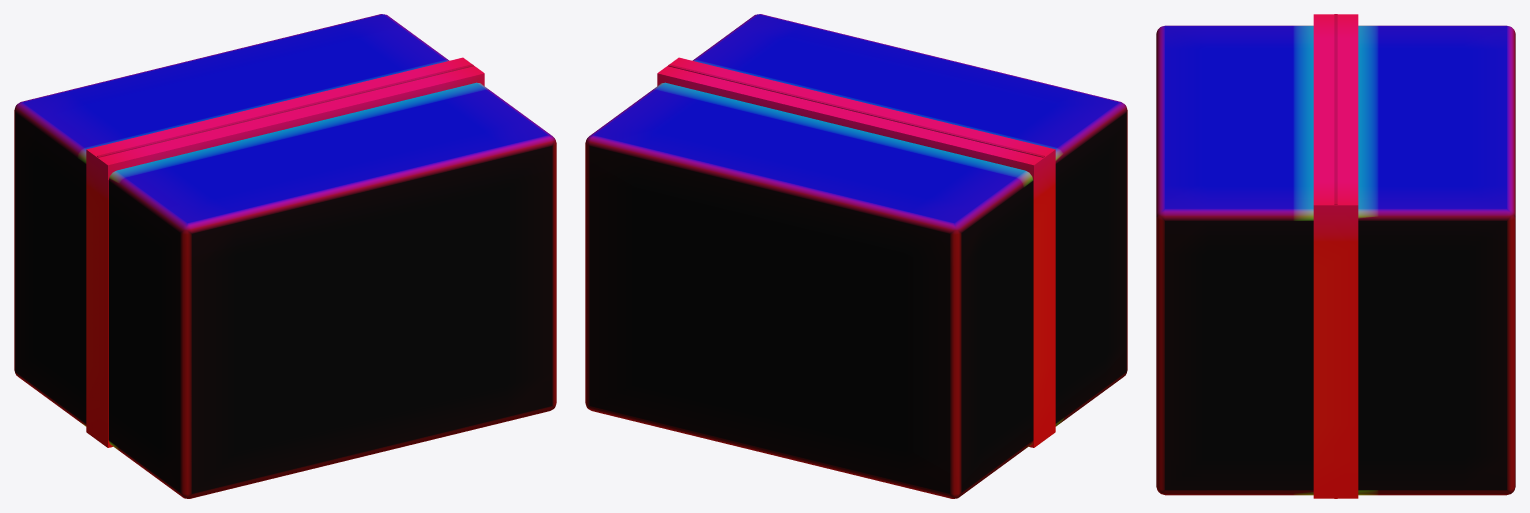
Rendered from prop_cardboard_box.fbx.
3 renders of one model, left to right at view 1: azimuth 30°, elevation 25°; view 2: azimuth 150°, elevation 25°; view 3: azimuth 270°, elevation 25°, orthographic. The views are drawn at different scales.
Parts seen in each view (by area): view 1: prop_cardboard_box; view 2: prop_cardboard_box; view 3: prop_cardboard_box.
Part boxes in pixels (left/top/right/bottom): prop_cardboard_box: left=14, top=14, right=556, bottom=498; prop_cardboard_box: left=585, top=14, right=1127, bottom=498; prop_cardboard_box: left=1156, top=14, right=1515, bottom=498.
Bounding box in the file's own units: 0.502 × 0.362 × 0.4.
